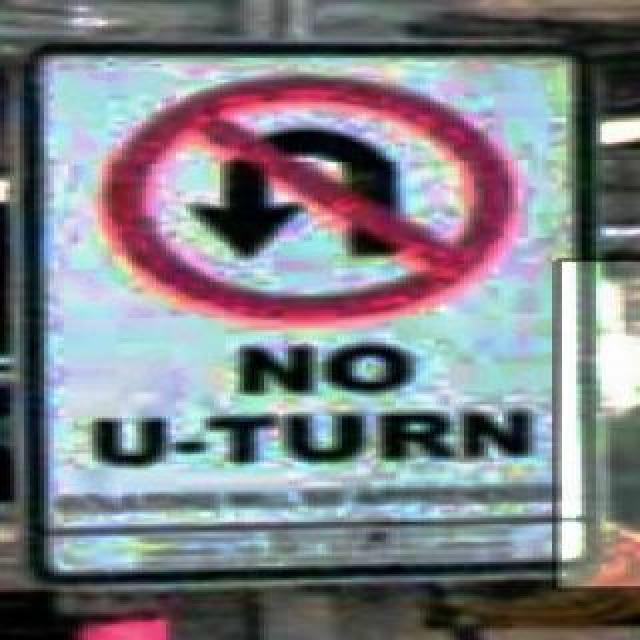no u turn: (78, 66, 538, 322)
